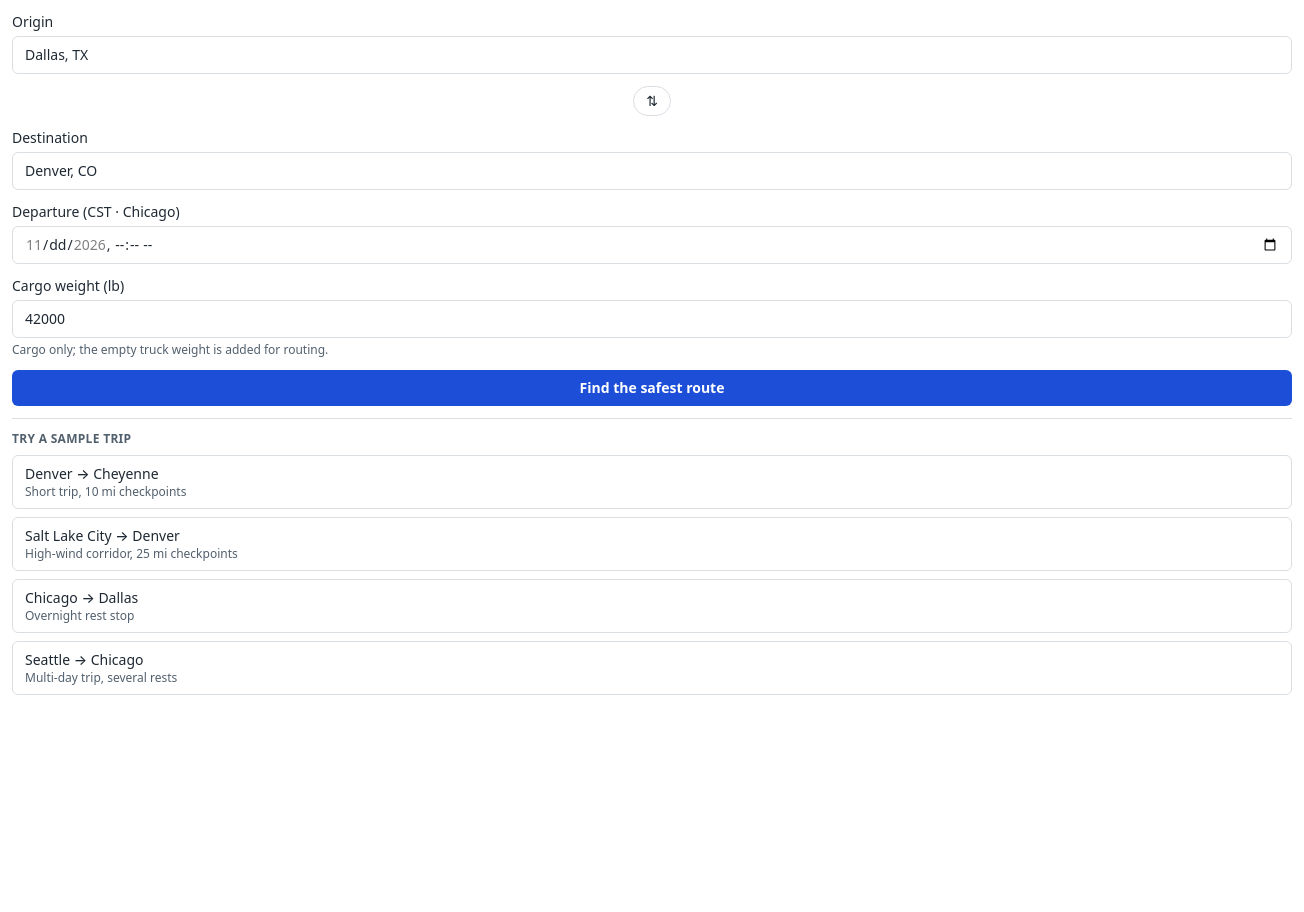
swap › swaps origin and destination and moves the departure to the new origin zone
The image size is (1304, 912).
Expected: the dropdown labelled "Origin" holds "Dallas, TX", [12,36,1292,74]
Click the button named "swap origin and destination" at (652, 101), box [633,86,671,116]
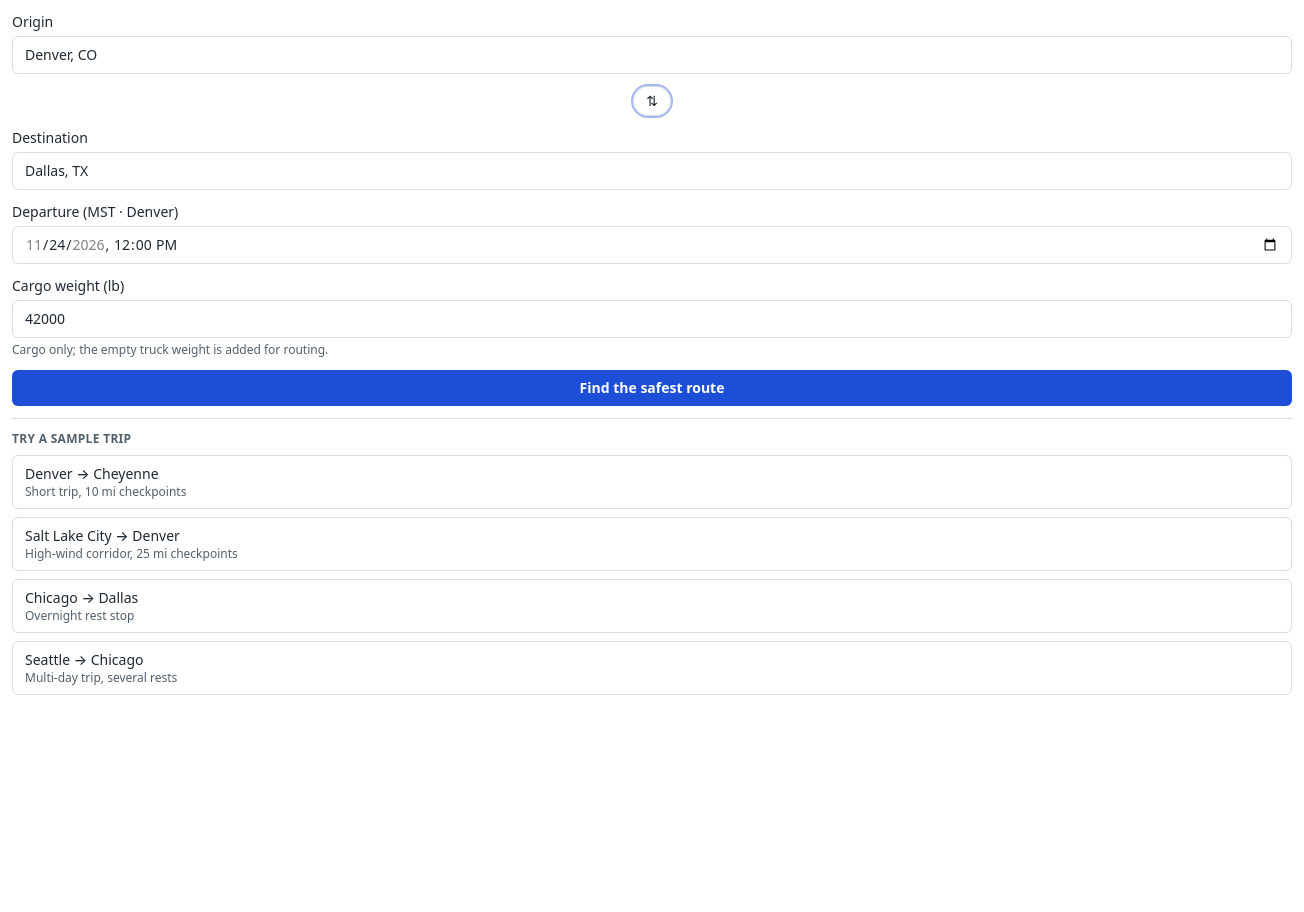
Now the dropdown labelled "Origin" holds "Denver, CO", box [12,36,1292,74]
Now the dropdown labelled "Destination" holds "Dallas, TX", box [12,152,1292,190]
Now the field labelled "Departure (MST · Denver)" holds "2026-11-24T12:00", box [12,226,1292,264]
